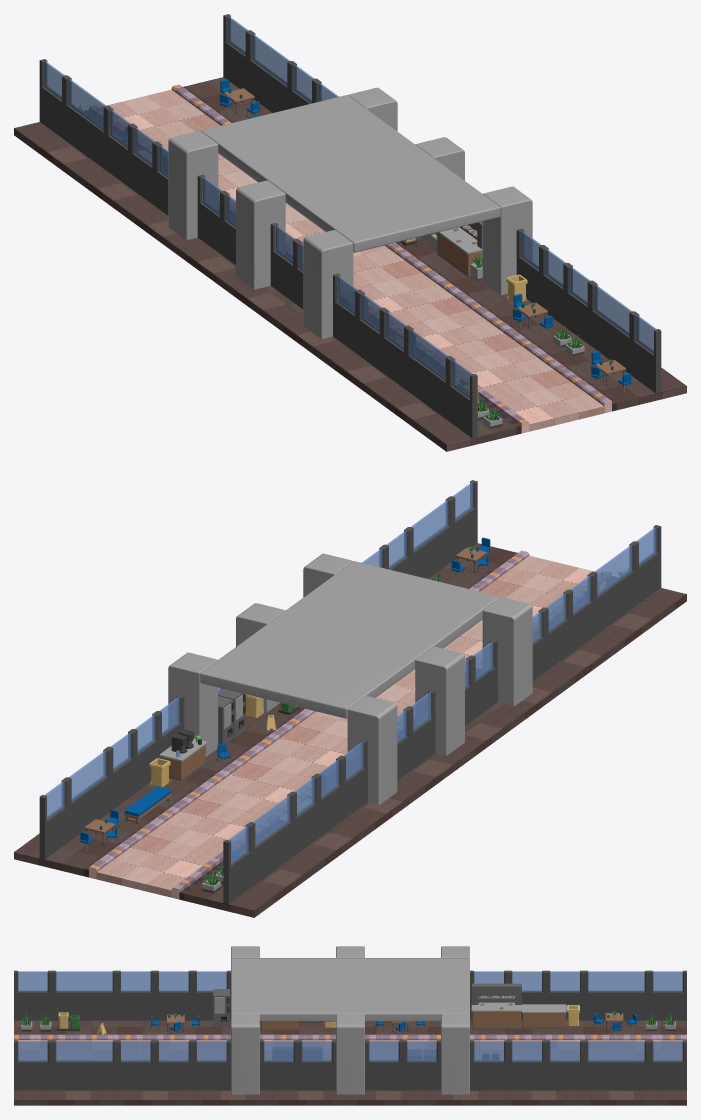
Rendered from Mixed_Chunk01.fbx.
3 views of the same model, one above another, from view 1: azimuth 30°, elevation 25°; view 2: azimuth 150°, elevation 25°; view 3: azimuth 270°, elevation 25° (orthographic). The views are drawn at different scales.
Visible parts, largest first — view 1: Base, Arch, pCube149, pCube153, pCube97, pCube106, pCube96, pCube154, Mixed_SnacksCounter_03, pCube151, pCube142, pCube147 (+12 smaller); view 2: Base, Arch, pCube153, pCube149, pCube106, pCube97, pCube104, pCube148, pCube151, pCube147, pCube146, pCube144 (+15 smaller); view 3: Base, Arch, pCube97, pCube106, pCube153, pCube149, Mixed_SnacksCounter_02, pCube20, pCube91, pCube92, pCube93, pCube96 (+20 smaller).
Part boxes in pixels (left/top/right/bottom): Base: left=14, top=77, right=686, bottom=451; Arch: left=168, top=87, right=532, bottom=338; pCube149: left=64, top=77, right=110, bottom=169; pCube153: left=406, top=327, right=452, bottom=420; pCube97: left=590, top=282, right=636, bottom=375; pCube106: left=248, top=32, right=294, bottom=112; pCube96: left=631, top=313, right=661, bottom=393; pCube154: left=448, top=358, right=477, bottom=438; Mixed_SnacksCounter_03: left=437, top=221, right=482, bottom=276; pCube151: left=381, top=309, right=411, bottom=389; pCube142: left=197, top=174, right=227, bottom=254; pCube147: left=105, top=107, right=135, bottom=187; Base: left=14, top=543, right=686, bottom=917; Arch: left=168, top=553, right=532, bottom=804; pCube153: left=590, top=543, right=636, bottom=635; pCube149: left=248, top=793, right=294, bottom=886; pCube106: left=64, top=748, right=110, bottom=841; pCube97: left=406, top=498, right=452, bottom=578; pCube104: left=39, top=779, right=69, bottom=859; pCube148: left=223, top=824, right=252, bottom=904; pCube151: left=565, top=573, right=595, bottom=653; pCube147: left=289, top=775, right=319, bottom=855; pCube146: left=314, top=757, right=343, bottom=837; pCube144: left=406, top=690, right=435, bottom=770; Base: left=14, top=1020, right=686, bottom=1105; Arch: left=231, top=946, right=469, bottom=1094; pCube97: left=52, top=1040, right=116, bottom=1090; pCube106: left=584, top=1040, right=648, bottom=1090; pCube153: left=52, top=970, right=116, bottom=1020; pCube149: left=584, top=970, right=648, bottom=1020; Mixed_SnacksCounter_02: left=471, top=983, right=521, bottom=1029; pCube20: left=260, top=1040, right=297, bottom=1090; pCube91: left=298, top=1040, right=335, bottom=1090; pCube92: left=193, top=1040, right=230, bottom=1090; pCube93: left=155, top=1040, right=192, bottom=1090; pCube96: left=14, top=1040, right=51, bottom=1090.
Size of the model in its own units: 1925 by 732 by 6000.
